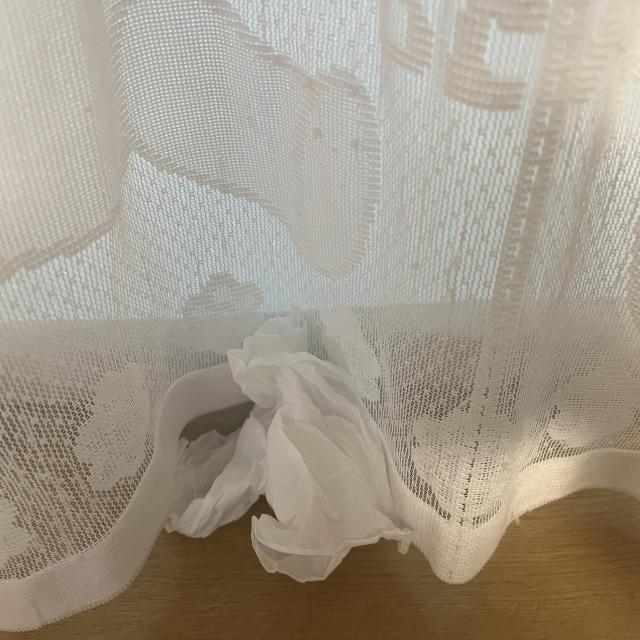衛生紙: (165, 312, 424, 585)
